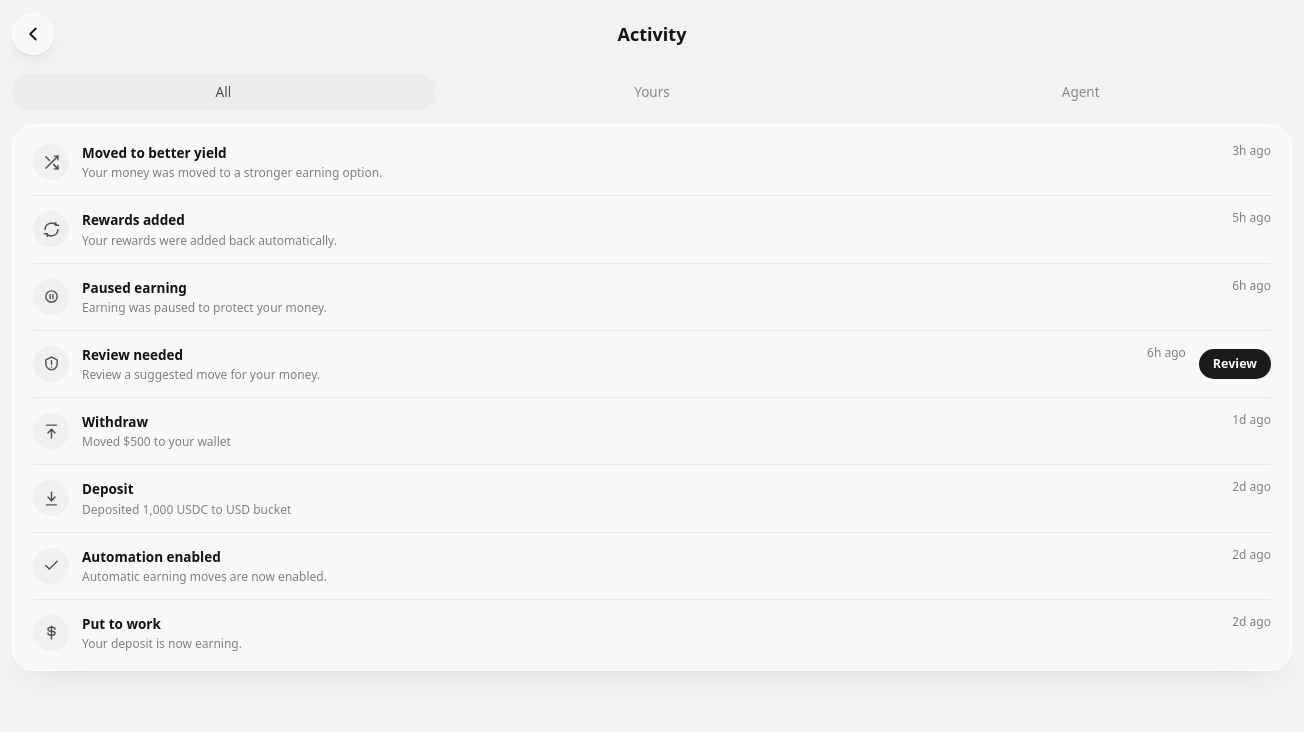
Test: activity page filters to Yours
Expected: the text "Moved to better yield" is shown, [82,143,227,163]
Click the button "Yours" at (652, 92), box [441,74,863,110]
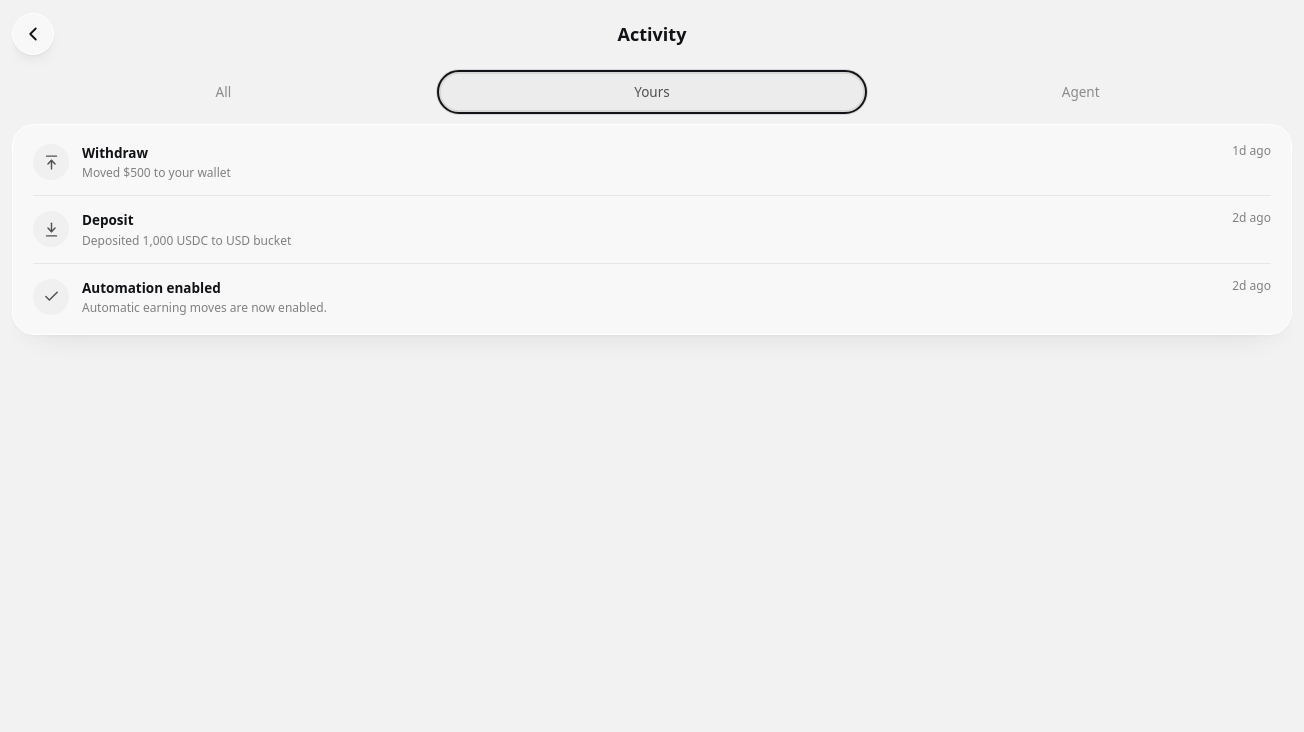
Expected: the text "Withdraw" is shown, [82,143,148,163]
Expected: the text "Moved to better yield" is gone
